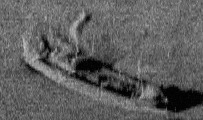ship: (22, 25, 168, 113)
